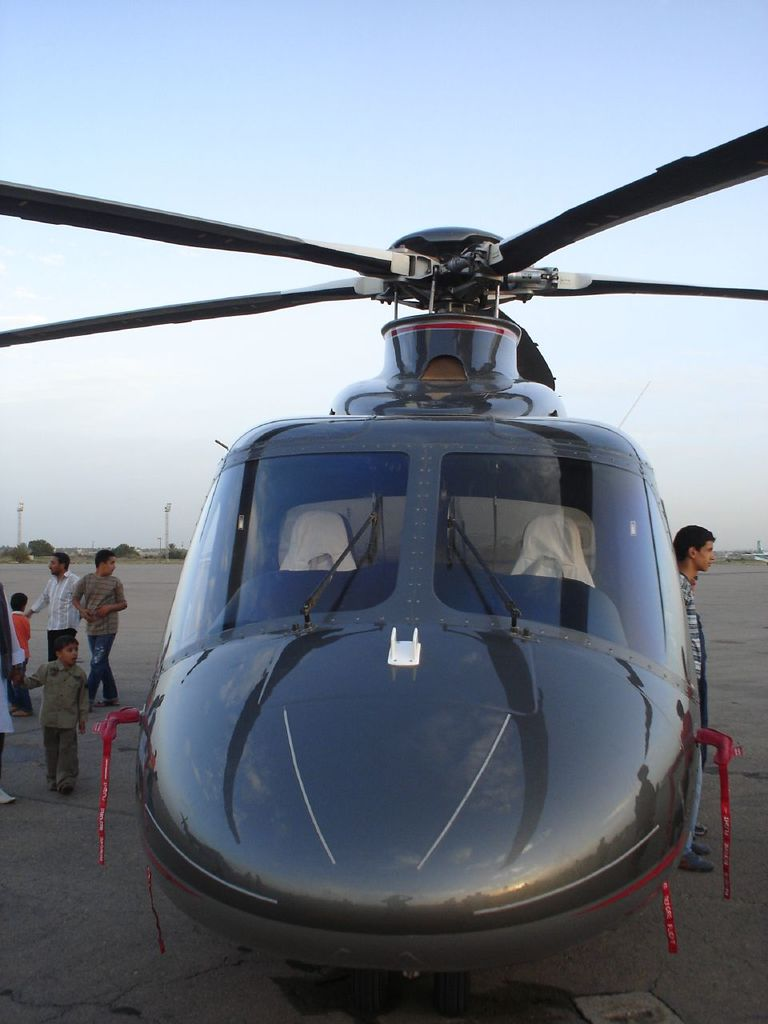person: (21, 630, 91, 797)
